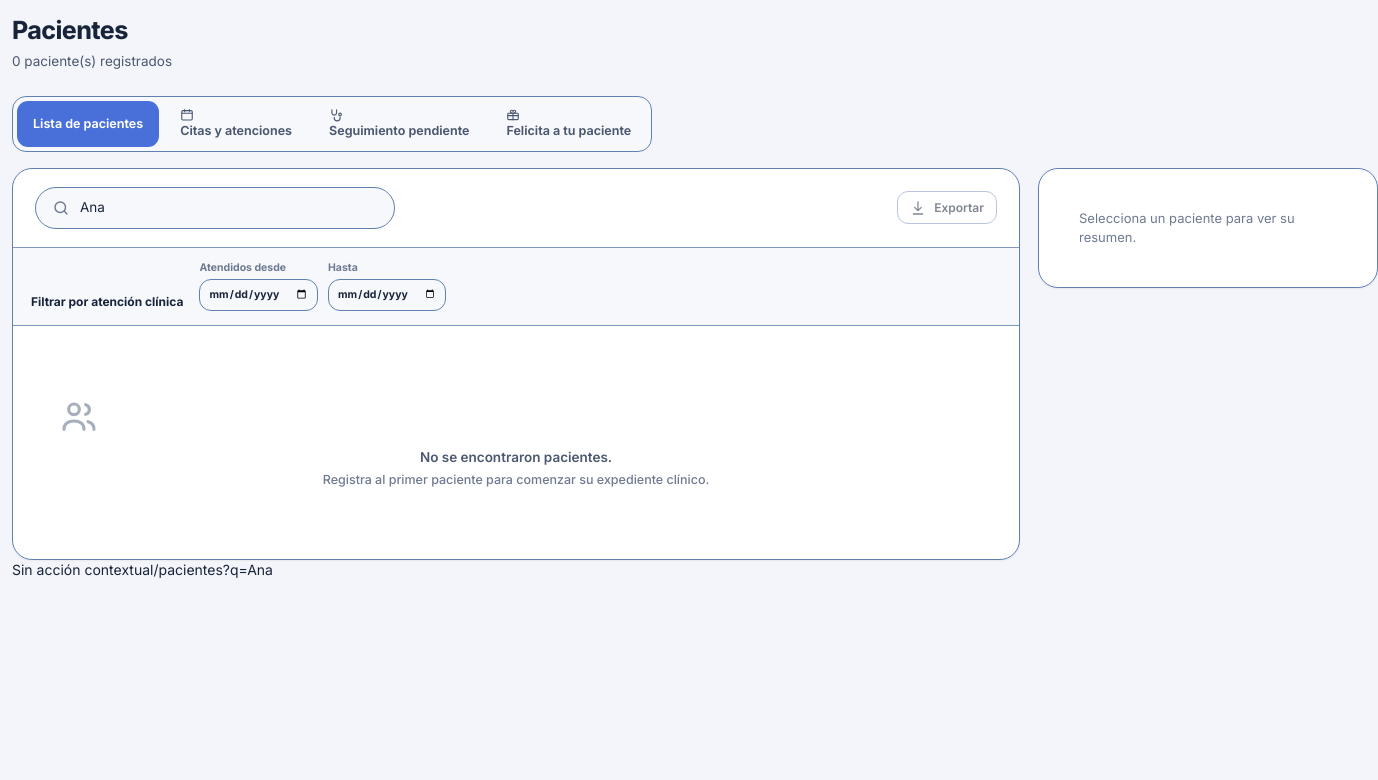
Test: PatientsPage › preserves unrelated query parameters while switching patient views
Click the button "Seguimiento pendiente": (399, 124) [313,101,486,147]
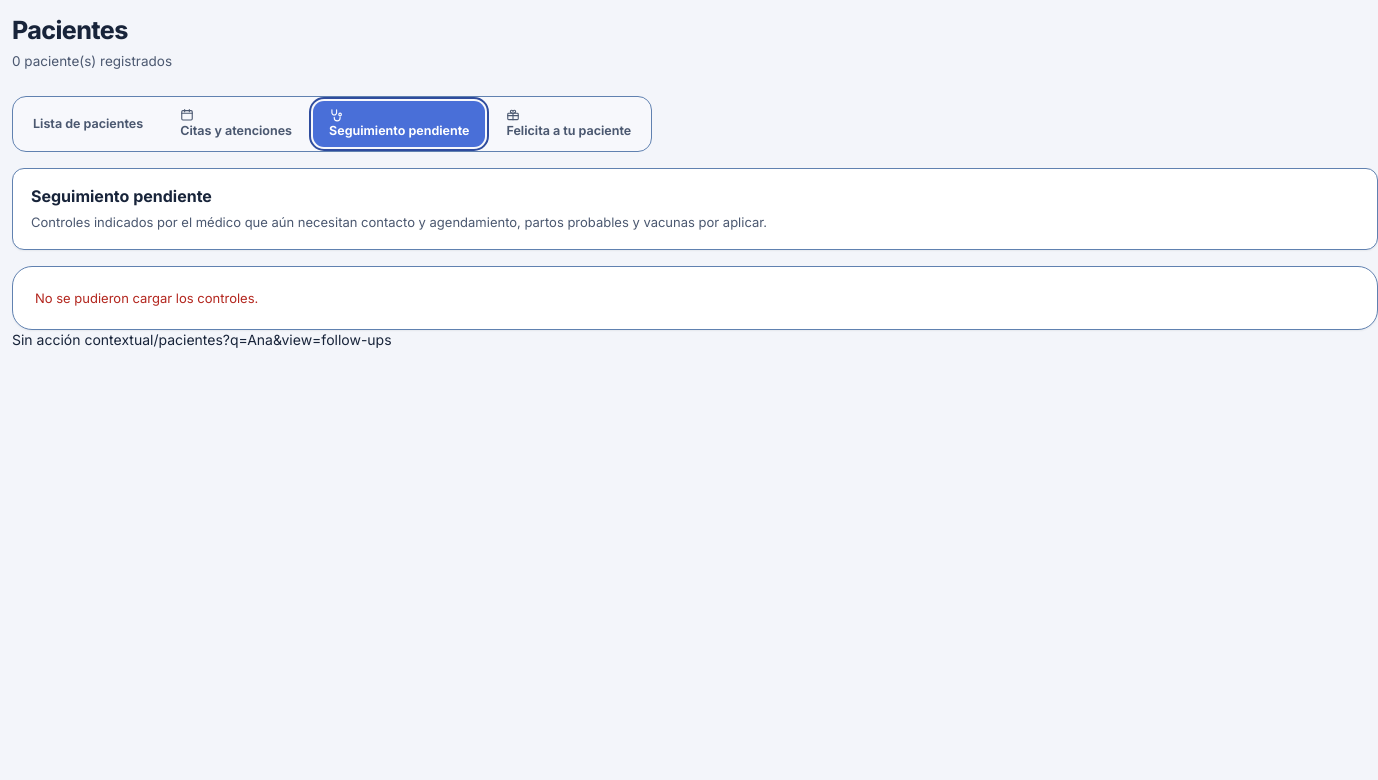
Now the text named "Ubicación actual" reads "/pacientes?q=Ana&view=follow-ups", box [153,332,392,348]
Click the button "Lista de pacientes": (88, 124) [17,101,159,147]
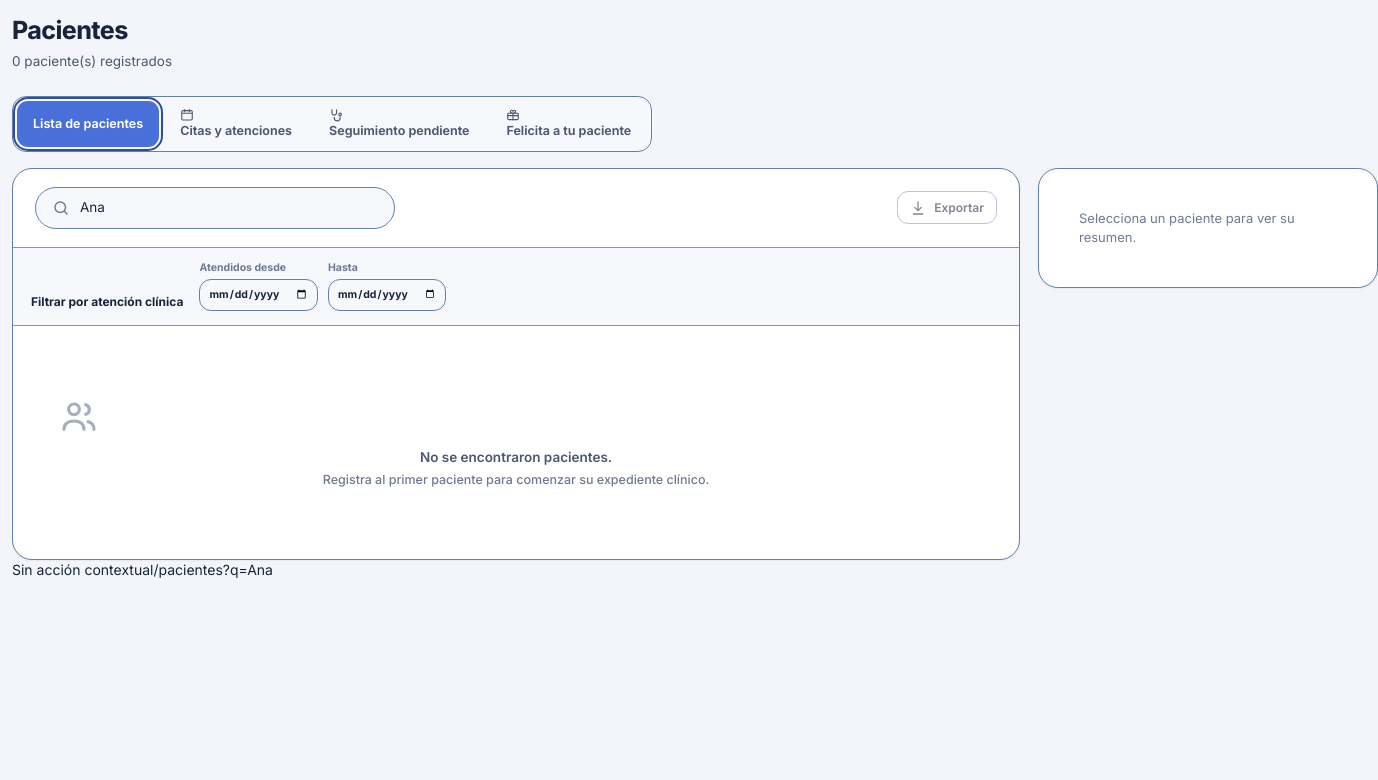
Now the text named "Ubicación actual" reads "/pacientes?q=Ana", box [153,561,273,578]
